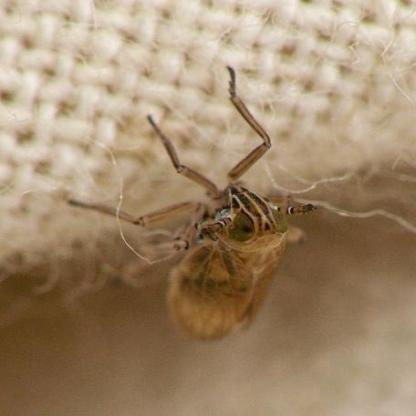brown-planthopper: (166, 174, 306, 344)
